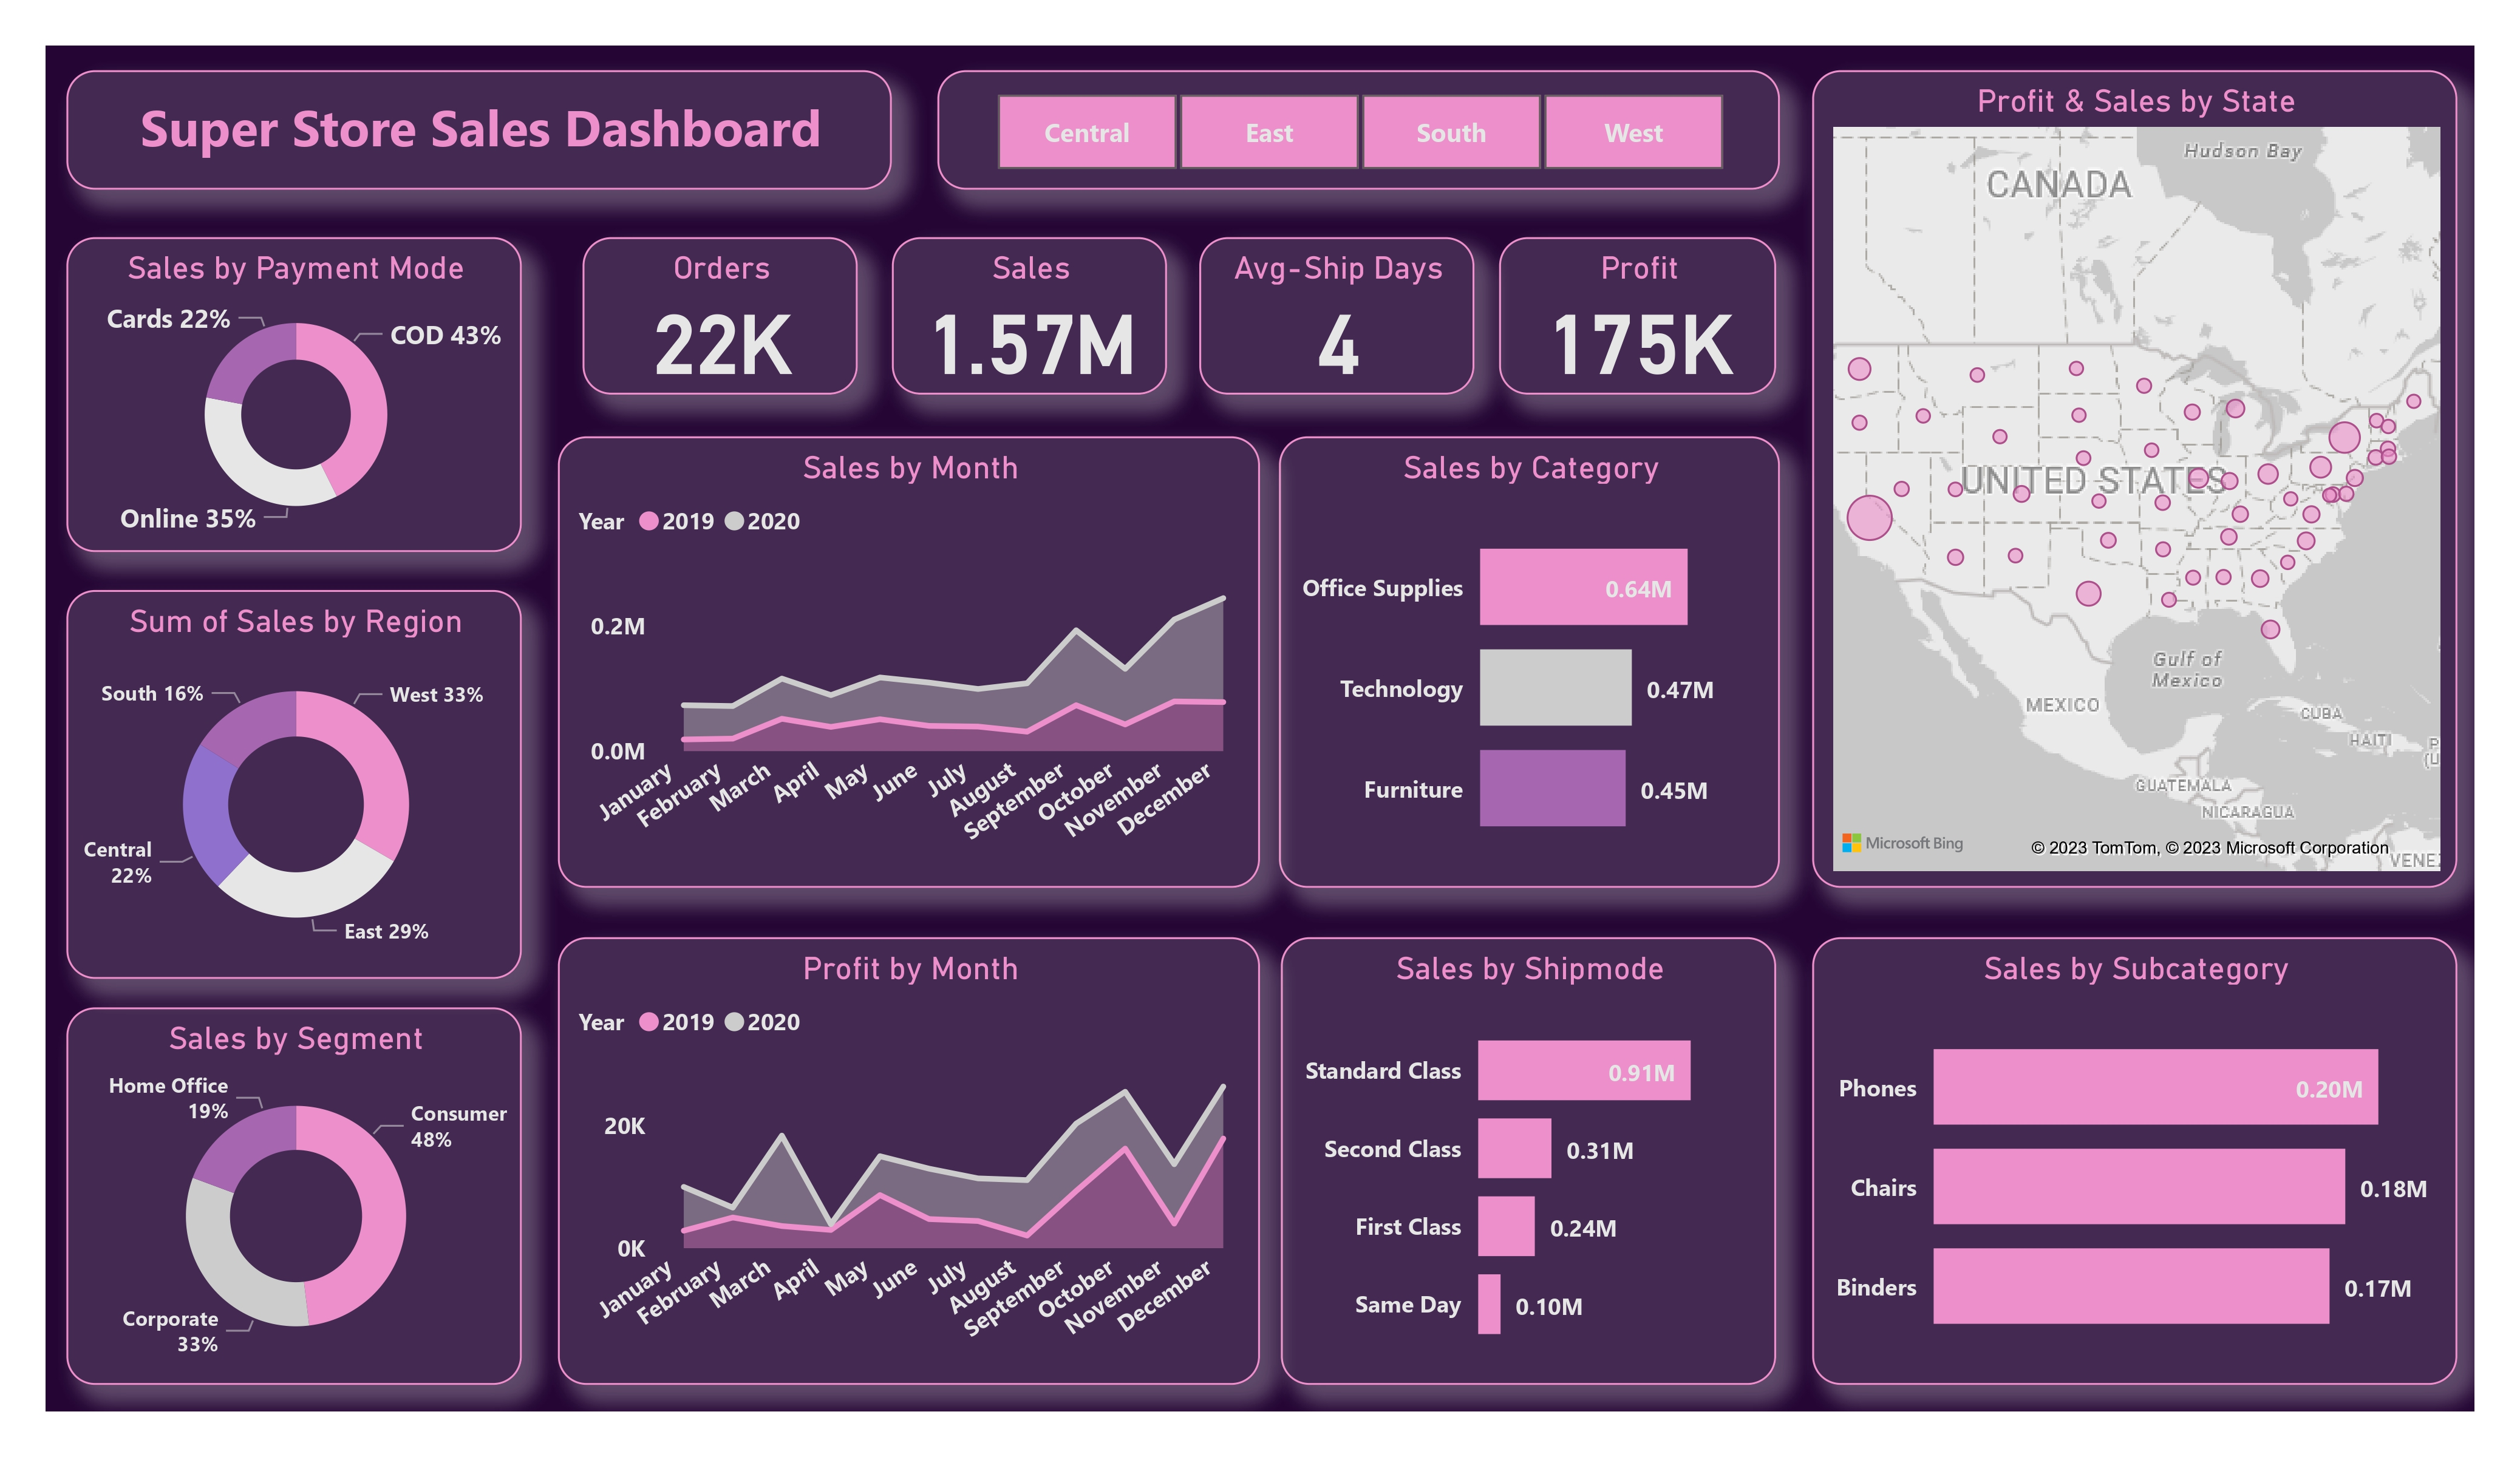

Layout of this report page (visuals, bound fields, positions):
{"tool":"powerbi","page":{"name":"DASHBOARD","canvas":[1280,720],"ordinal":0},"visuals":[{"type":"clusteredBarChart","title":"Sales by Category","fields":{"Category":["Sheet1.Category"],"Y":["Sum(Sheet1.Sales)"]},"box":[649.8,205.9,264.2,238],"z":0},{"type":"clusteredBarChart","title":"Sales by Subcategory","fields":{"Category":["Sheet1.Sub-Category"],"Y":["Sum(Sheet1.Sales)"]},"box":[930.6,470.1,340.4,235.6],"z":1000},{"type":"clusteredBarChart","title":"Sales by Shipmode","fields":{"Category":["Sheet1.Ship Mode"],"Y":["Sum(Sheet1.Sales)"]},"box":[651,470.1,260.6,235.6],"z":2000},{"type":"stackedAreaChart","title":"Sales by Month","fields":{"Y":["Sum(Sheet1.Sales)"],"Category":["Sheet1.Order Date.Variation.Date Hierarchy.Month","Sheet1.Order Date.Variation.Date Hierarchy.Day"],"Series":["Sheet1.Order Date.Variation.Date Hierarchy.Year"]},"box":[270.1,205.9,370.1,238],"z":3000},{"type":"stackedAreaChart","title":"Profit by Month","fields":{"Category":["Sheet1.Order Date.Variation.Date Hierarchy.Month","Sheet1.Order Date.Variation.Date Hierarchy.Day"],"Series":["Sheet1.Order Date.Variation.Date Hierarchy.Year"],"Y":["Sum(Sheet1.Profit)"]},"box":[270.1,470.1,370.1,235.6],"z":4000},{"type":"map","title":"Profit & Sales by State","fields":{"Category":["Sheet1.State"],"Size":["Sum(Sheet1.Sales)"]},"box":[930.6,13.1,340.4,430.8],"z":5000},{"type":"donutChart","fields":{"Category":["Sheet1.Region","Sheet1.Segment"],"Y":["Sum(Sheet1.Sales)"]},"box":[10.7,286.8,240.4,204.7],"z":6000},{"type":"donutChart","title":"Sales by Payment Mode","fields":{"Category":["Sheet1.Payment Mode"],"Y":["Sum(Sheet1.Sales)"]},"box":[10.7,101.2,240.4,165.4],"z":7000},{"type":"donutChart","title":"Sales by Segment","fields":{"Category":["Sheet1.Segment"],"Y":["Sum(Sheet1.Sales)"]},"box":[10.7,507,240.4,198.7],"z":8000},{"type":"slicer","fields":{"Values":["Sheet1.Region"]},"box":[470.1,13.1,443.9,63.1],"z":9000},{"type":"textbox","box":[10.7,13.1,435.6,63.1],"z":10000},{"type":"card","title":"Profit","fields":{"Values":["Sum(Sheet1.Profit)"]},"box":[766.4,101.2,145.2,83.3],"z":11000},{"type":"card","title":"Avg-Ship Days","fields":{"Values":["Avg(Sheet1.AvgDelivery)"]},"box":[608.1,101.2,145.2,83.3],"z":12000},{"type":"card","title":"Sales","fields":{"Values":["Sum(Sheet1.Sales)"]},"box":[446.3,101.2,145.2,83.3],"z":13000},{"type":"card","title":"Orders","fields":{"Values":["Sum(Sheet1.Quantity)"]},"box":[283.2,101.2,145.2,83.3],"z":14000}]}

Visuals, with their boxes in screenshot pixels (x1, y1, x2, y2):
"Sales by Category" clusteredBarChart: [left=1279, top=436, right=1780, bottom=888]
"Sales by Subcategory" clusteredBarChart: [left=1811, top=937, right=2457, bottom=1384]
"Sales by Shipmode" clusteredBarChart: [left=1281, top=937, right=1776, bottom=1384]
"Sales by Month" stackedAreaChart: [left=558, top=436, right=1261, bottom=888]
"Profit by Month" stackedAreaChart: [left=558, top=937, right=1261, bottom=1384]
"Profit & Sales by State" map: [left=1811, top=70, right=2457, bottom=888]
donutChart - Sheet1.Region x Sheet1.Segment: [left=66, top=589, right=522, bottom=978]
"Sales by Payment Mode" donutChart: [left=66, top=237, right=522, bottom=551]
"Sales by Segment" donutChart: [left=66, top=1007, right=522, bottom=1384]
slicer - Sheet1.Region: [left=938, top=70, right=1780, bottom=190]
textbox: [left=66, top=70, right=893, bottom=190]
"Profit" card: [left=1500, top=237, right=1776, bottom=396]
"Avg-Ship Days" card: [left=1199, top=237, right=1475, bottom=396]
"Sales" card: [left=893, top=237, right=1168, bottom=396]
"Orders" card: [left=583, top=237, right=859, bottom=396]
